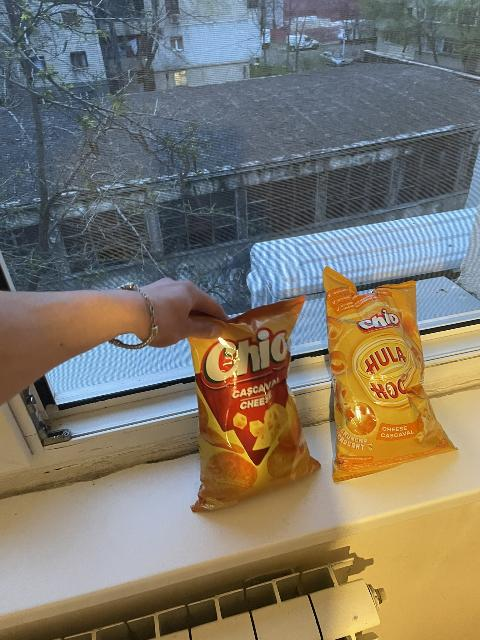Chio Cascaval 125g: (181, 289, 317, 503)
Chio Hula Hoops Cheese 70g: (326, 271, 458, 476)
